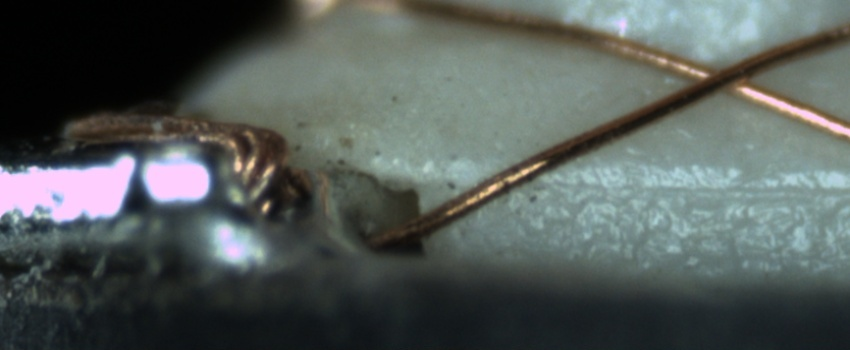CL: (672, 46, 776, 104)
DL: (515, 158, 850, 212)
TE: (57, 107, 307, 219)
